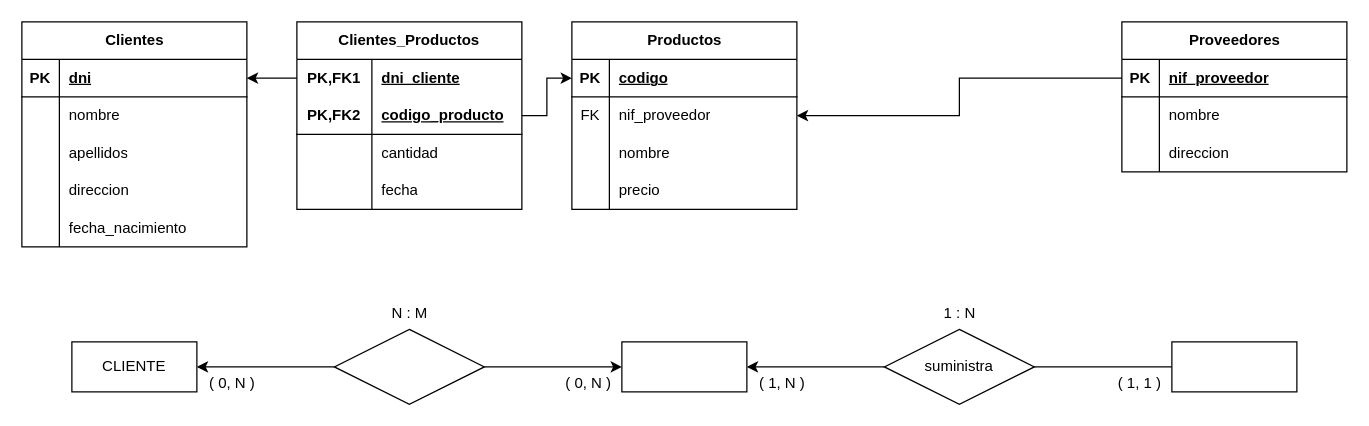
Some shapes in this 1369 by 426 pixel diagram are drawn without their labels. The centre of each missing label's shape, as x and y in pixels:
compra: point (408, 366)
PRODUCTO: point (684, 366)
PROVEEDOR: point (1234, 366)
